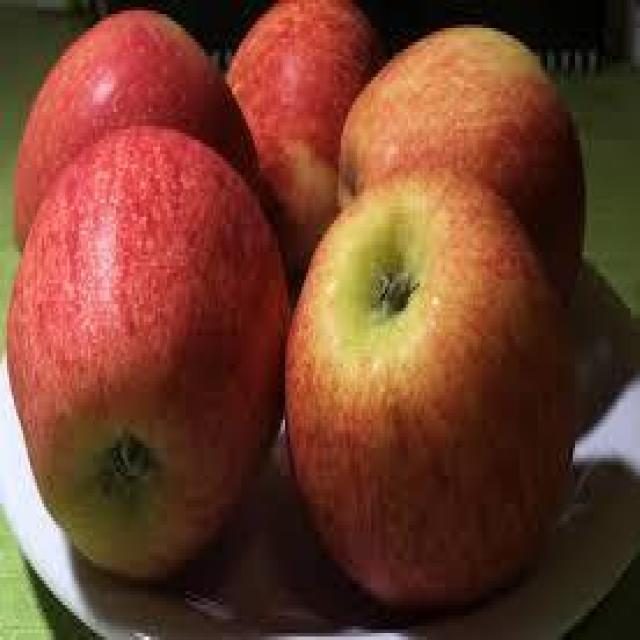maca: (4, 122, 290, 580), (283, 161, 575, 608), (336, 21, 587, 294), (12, 7, 260, 248)
